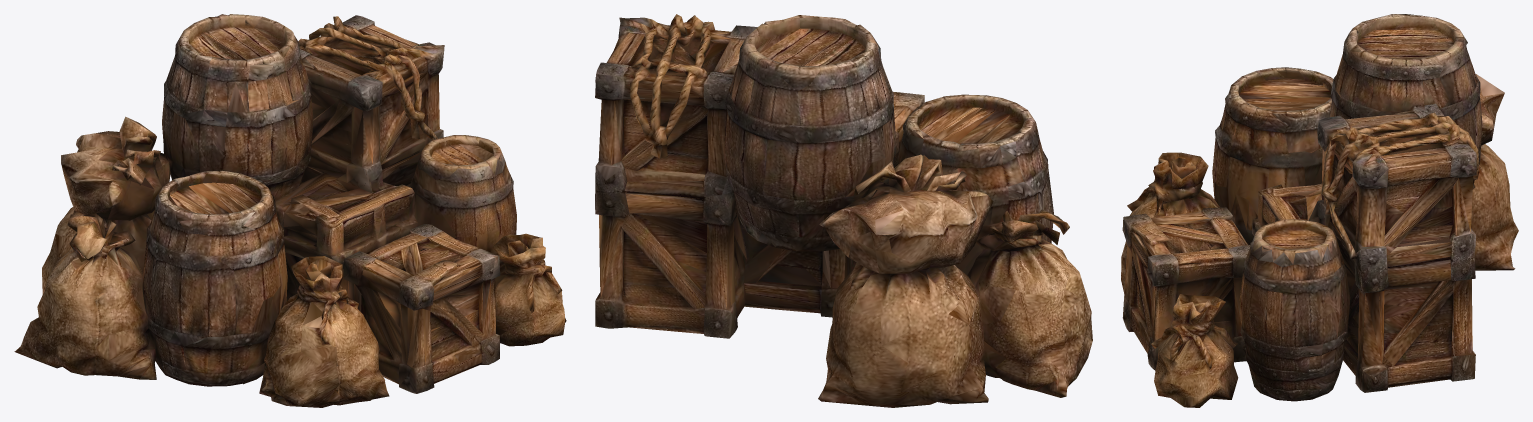
3 views of the same model, side by side, from view 1: azimuth 30°, elevation 25°; view 2: azimuth 150°, elevation 25°; view 3: azimuth 270°, elevation 25° (orthographic). The views are drawn at different scales.
Visible parts, largest first — view 1: tripo_node_9a66921b-2e2d-4214-9aea-9d722e02fc14; view 2: tripo_node_9a66921b-2e2d-4214-9aea-9d722e02fc14; view 3: tripo_node_9a66921b-2e2d-4214-9aea-9d722e02fc14.
Part boxes in pixels (left/top/right/bottom): tripo_node_9a66921b-2e2d-4214-9aea-9d722e02fc14: left=14, top=14, right=566, bottom=407; tripo_node_9a66921b-2e2d-4214-9aea-9d722e02fc14: left=595, top=14, right=1092, bottom=407; tripo_node_9a66921b-2e2d-4214-9aea-9d722e02fc14: left=1121, top=14, right=1518, bottom=407.
Size of the model in its own units: 0.9836 by 0.5566 by 0.7531.
1 material, 1 textured.
